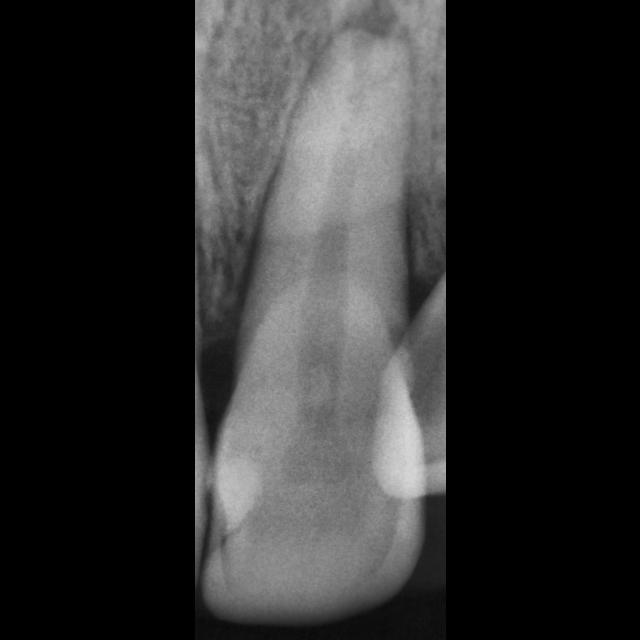tooth: (198, 24, 426, 624)
